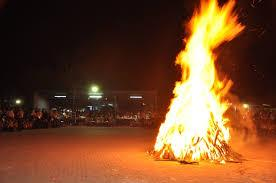Fire: (157, 5, 234, 163)
